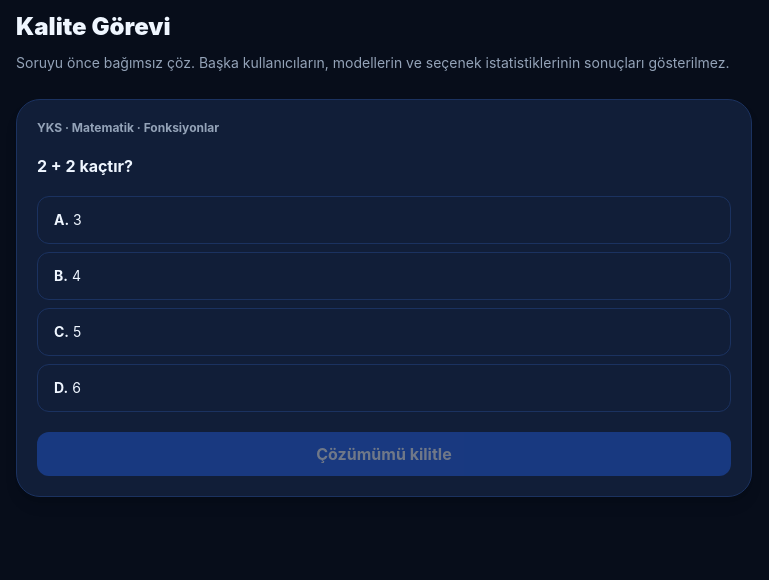
Test case: QualityMissionsClient › keeps the verdict step closed when the server rejects the answer lock
Click the button "A. 3" at (59, 220), box [37,196,731,244]
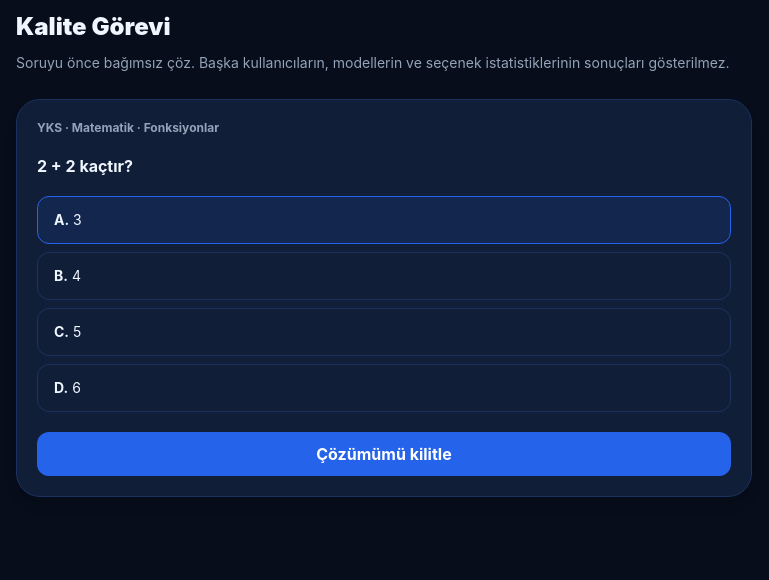
Click the button "Çözümümü kilitle" at (384, 454), box [37,432,731,476]
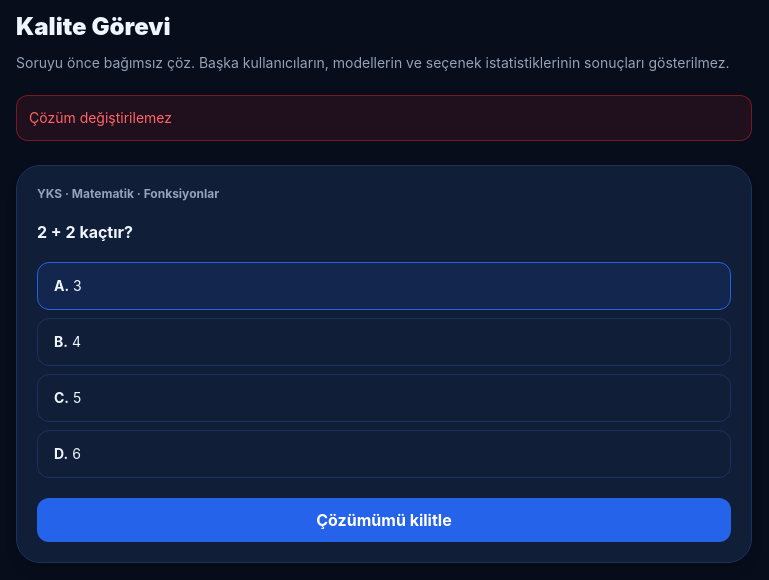
Now the message reads "Çözüm değiştirilemez", box [29,109,172,126]
